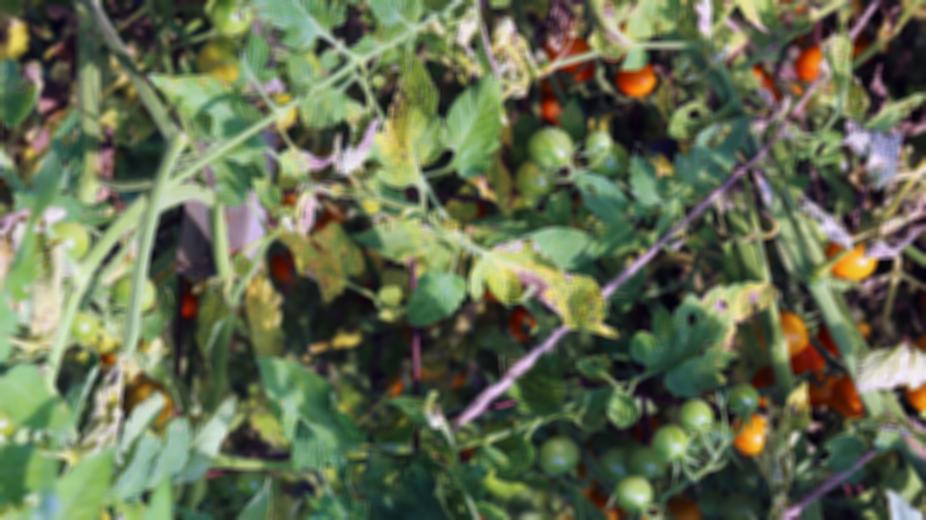Tomato Early blight leaf: (465, 235, 622, 339), (632, 282, 771, 393), (260, 355, 359, 454), (376, 57, 445, 187), (154, 72, 276, 131), (285, 226, 363, 295), (354, 220, 442, 263)
Tomato leaf: (439, 72, 508, 176)
